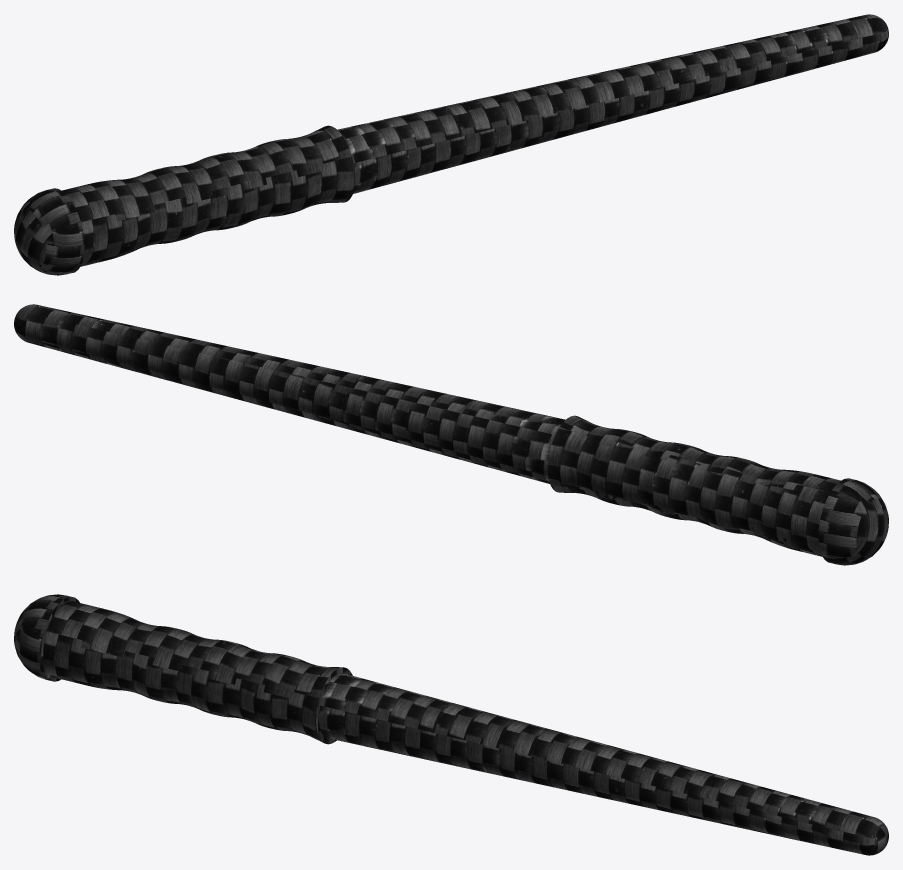
The model's file is spear_world.dae.
The picture shows the model from 3 angles, top to bottom: view 1: azimuth 30°, elevation 25°; view 2: azimuth 150°, elevation 25°; view 3: azimuth 330°, elevation 25°; orthographic projection.
Visible parts, largest first — view 1: Sphere; view 2: Sphere; view 3: Sphere.
Part boxes in pixels (x1,y1,x2,y2): Sphere: (14, 14, 888, 275); Sphere: (14, 304, 888, 565); Sphere: (14, 594, 888, 855).
Size of the model in its own units: 0.454 by 0.0395 by 0.0395.
Materials: 1 (1 with a texture image).
